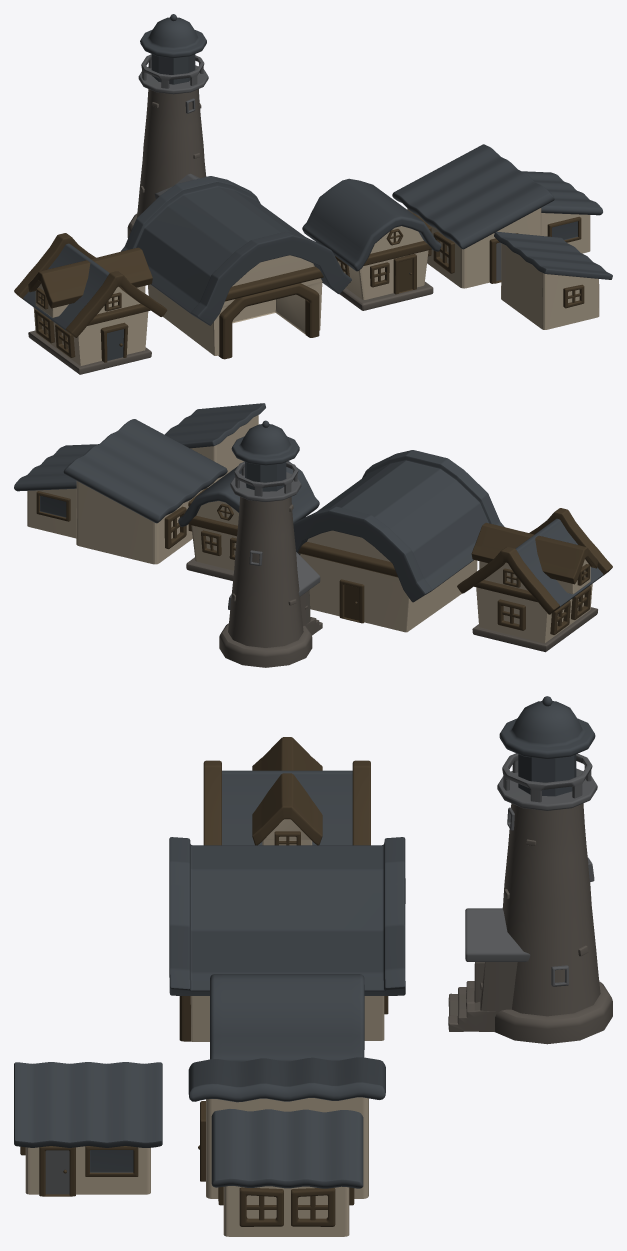
Rendered from Hus02.fbx.
3 views of the same model, one above another, from view 1: azimuth 30°, elevation 25°; view 2: azimuth 150°, elevation 25°; view 3: azimuth 270°, elevation 25° (orthographic). The views are drawn at different scales.
Parts seen in each view (by area): view 1: båthusny, veras_hus, hus1, hus3, fyr, skjul; view 2: båthusny, veras_hus, fyr, hus1, hus3, skjul; view 3: fyr, båthusny, veras_hus, skjul, hus1, hus3.
Boxes of the visible parts, left/top/right/bottom form: båthusny: left=121, top=176, right=351, bottom=359; veras_hus: left=392, top=144, right=602, bottom=288; hus1: left=14, top=233, right=167, bottom=374; hus3: left=302, top=178, right=441, bottom=310; fyr: left=127, top=14, right=208, bottom=237; skjul: left=494, top=231, right=612, bottom=329; båthusny: left=293, top=450, right=504, bottom=632; veras_hus: left=14, top=419, right=227, bottom=564; fyr: left=219, top=420, right=322, bottom=667; hus1: left=457, top=508, right=612, bottom=652; hus3: left=178, top=461, right=319, bottom=580; skjul: left=164, top=403, right=265, bottom=483; fyr: left=448, top=696, right=612, bottom=1044; båthusny: left=169, top=837, right=405, bottom=1041; veras_hus: left=188, top=1057, right=385, bottom=1236; skjul: left=14, top=1062, right=162, bottom=1196; hus1: left=203, top=737, right=370, bottom=845; hus3: left=210, top=974, right=364, bottom=1061.
Size of the model in its own units: 53.83 by 22.18 by 36.25.
